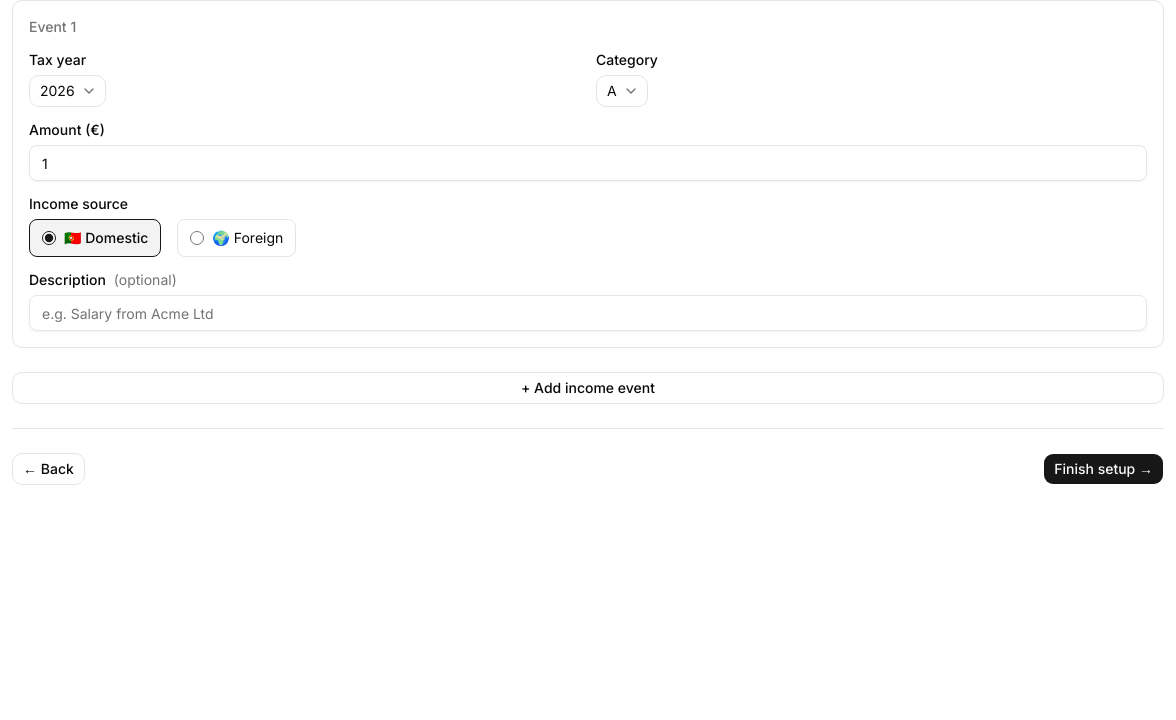
Scenario: Step3Income › shows coefficient field when Cat B is selected
The width and height of the screenshot is (1176, 720).
# taxYear is index 0, category is index 1
Click the dropdown labelled "A ▼" at (622, 91), box [596,75,648,107]
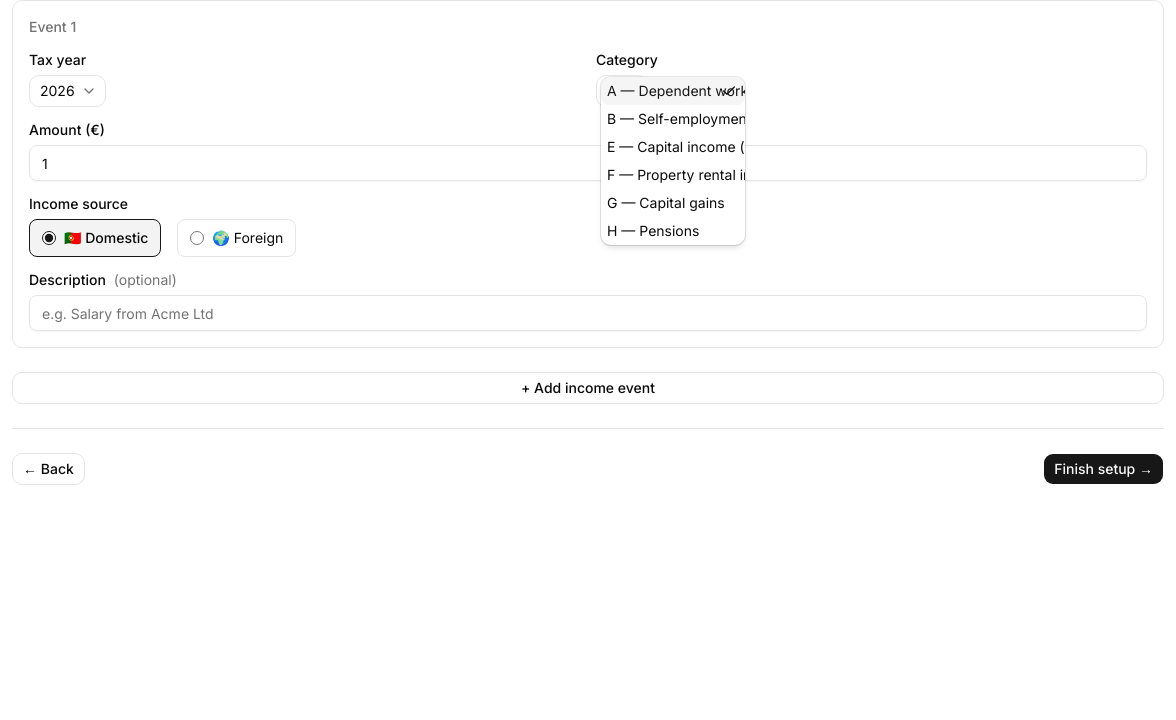
Click the option "B — Self-employment / business" at (673, 119), box [601,105,745,133]
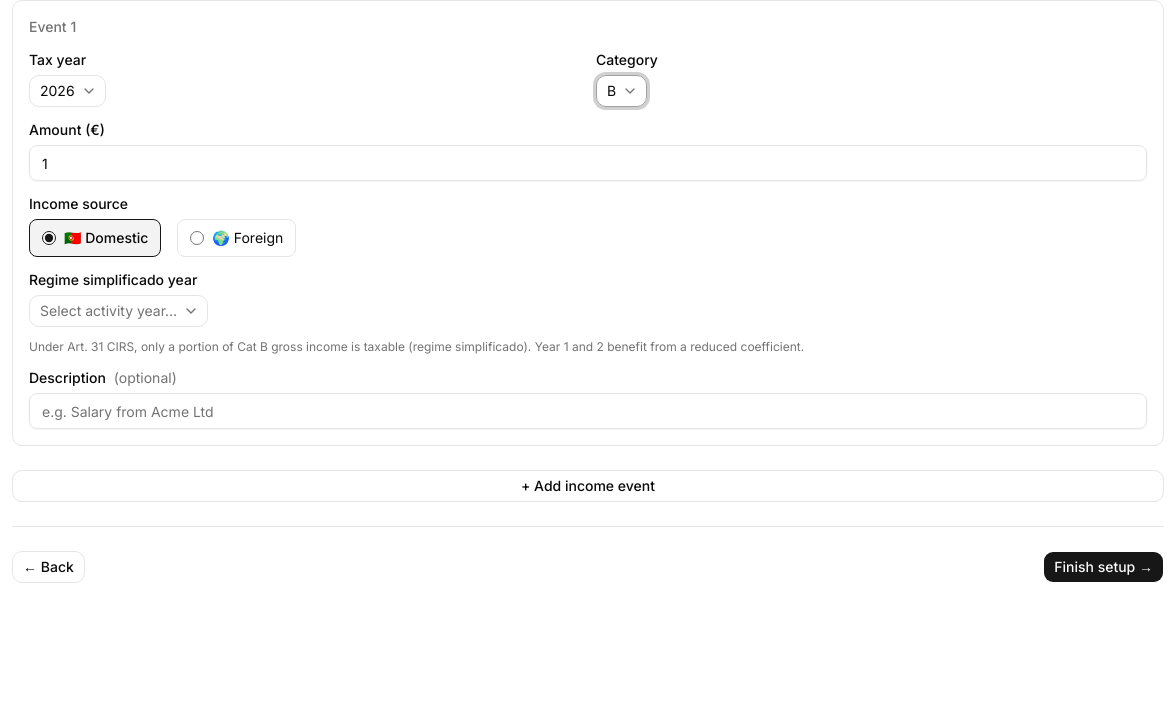
expect the text "Regime simplificado year" is shown: met, box [29,271,197,288]
